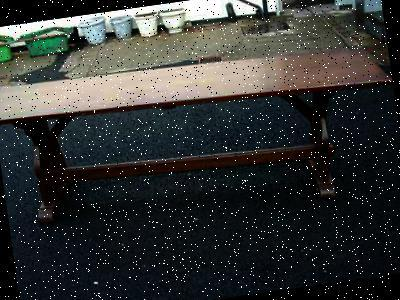Mesa: (0, 30, 399, 245)
